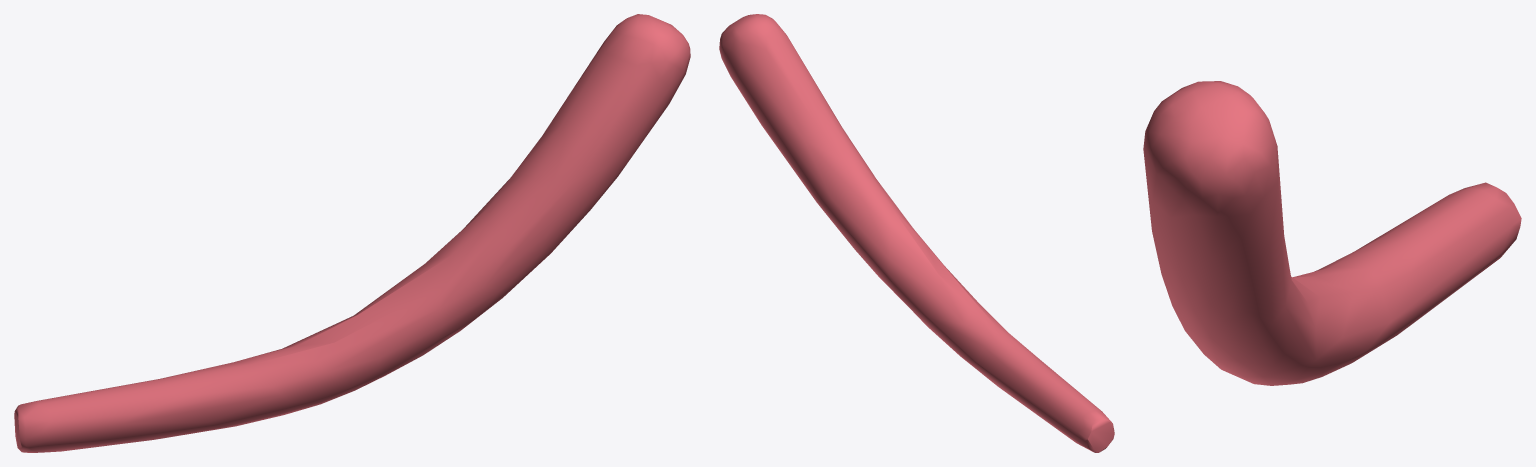
Rendered from fma8627_fj6065.glb.
3 renders of one model, left to right at view 1: azimuth 30°, elevation 25°; view 2: azimuth 150°, elevation 25°; view 3: azimuth 270°, elevation 25°, orthographic. The views are drawn at different scales.
Parts seen in each view (by area): view 1: FMA8627_FJ6065; view 2: FMA8627_FJ6065; view 3: FMA8627_FJ6065.
Boxes of the visible parts, left/top/right/bottom form: FMA8627_FJ6065: left=14, top=14, right=690, bottom=452; FMA8627_FJ6065: left=719, top=14, right=1114, bottom=452; FMA8627_FJ6065: left=1143, top=81, right=1521, bottom=385.
Size of the model in its own units: 0.017 by 0.0102 by 0.00616.
